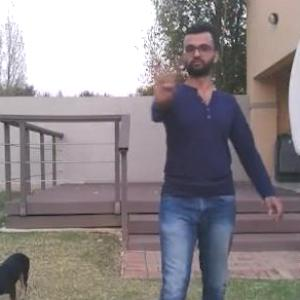takeoff-hand: (145, 51, 178, 109)
